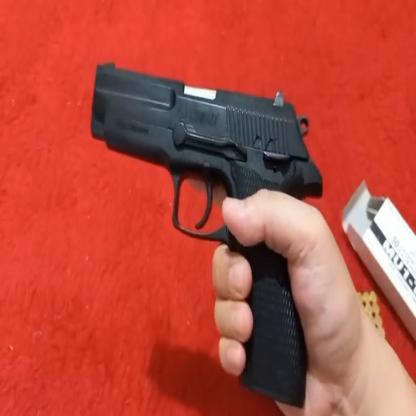handgun: (87, 54, 310, 202)
